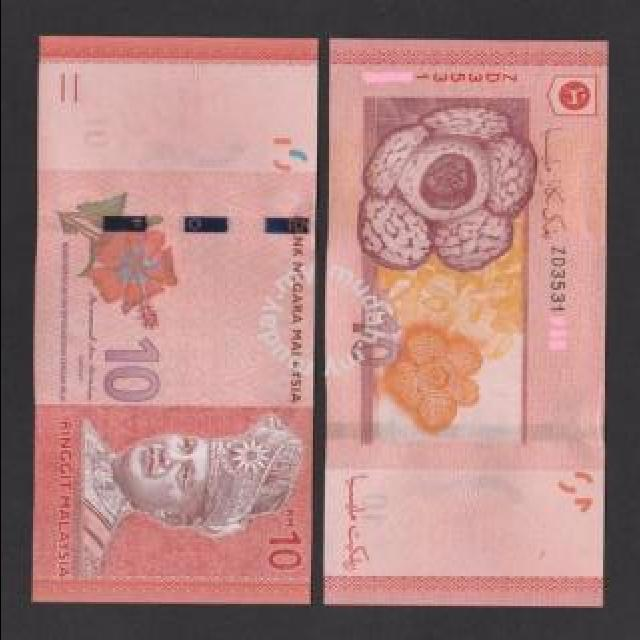10 Ringgit: (321, 36, 612, 605), (30, 38, 320, 605)
